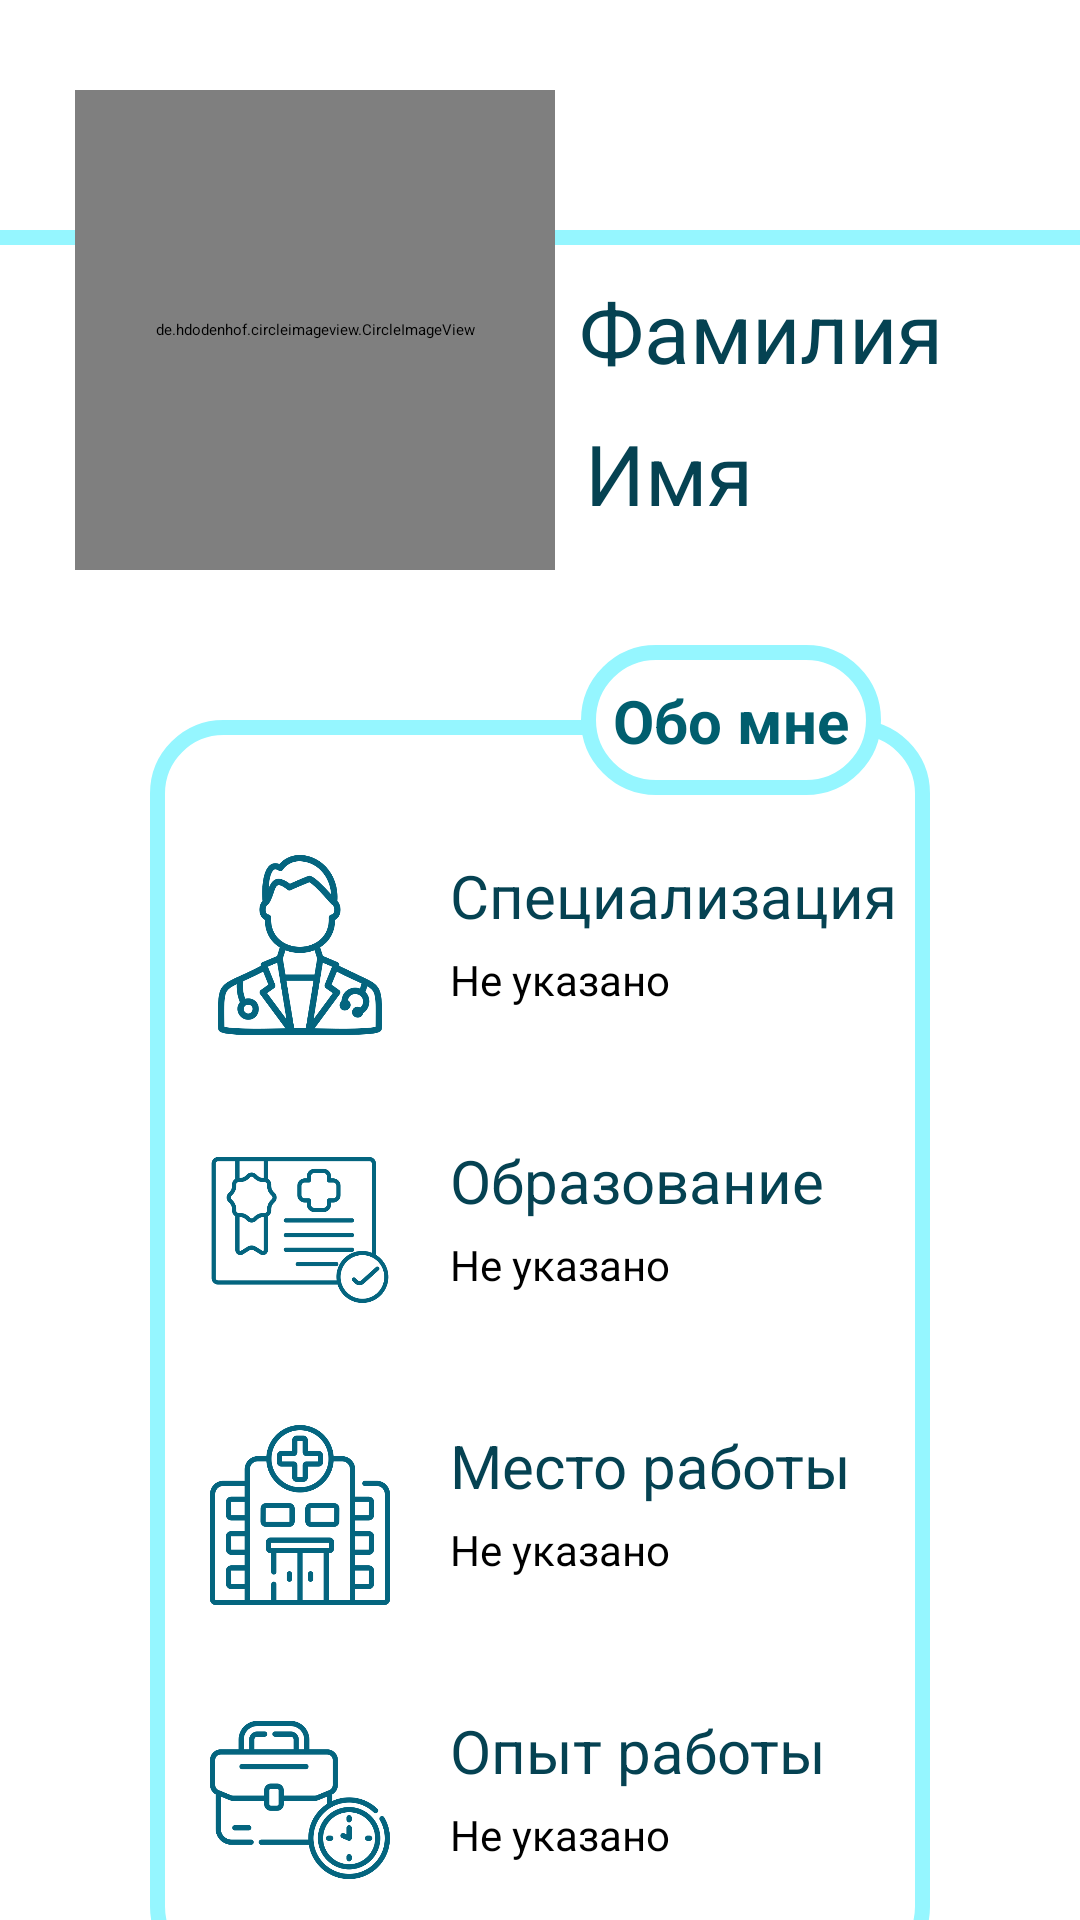

Icons on this 1080x1920 Android screen, each with its box as region(x1, y1, x2, y2):
education: region(211, 1157, 389, 1303)
experience: region(210, 1721, 390, 1879)
specialization: region(218, 855, 382, 1035)
workplace: region(210, 1425, 390, 1605)
